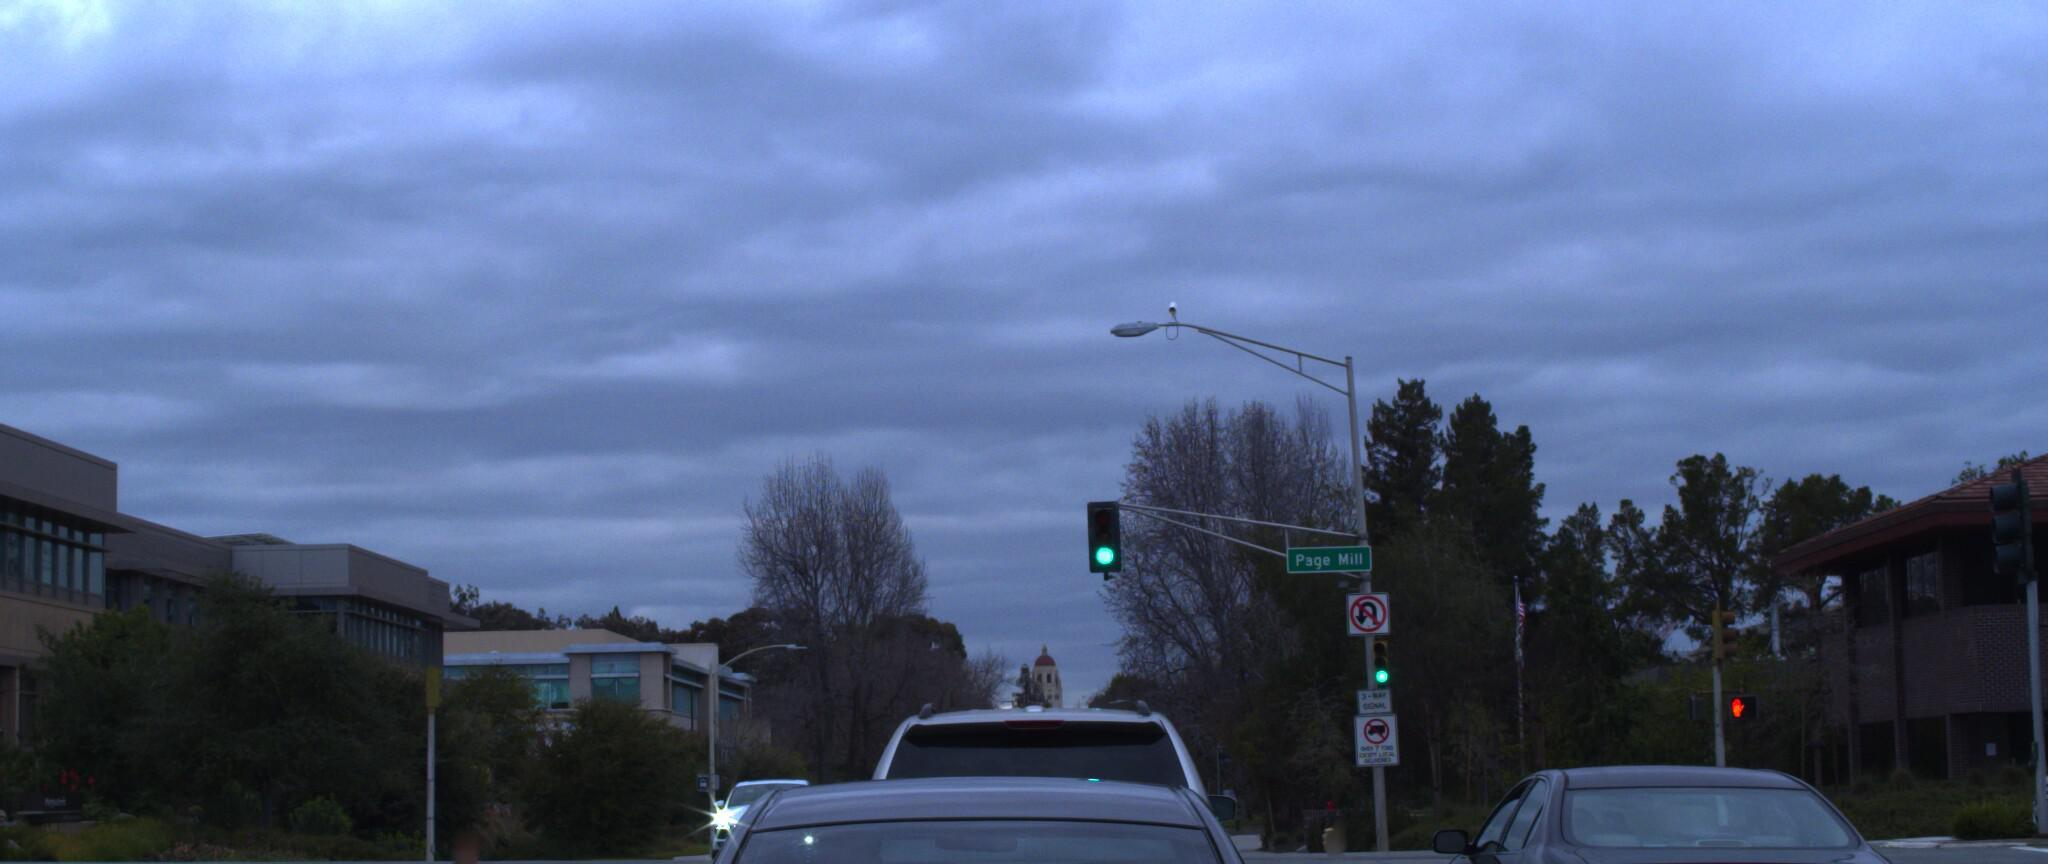car: (593, 730, 1362, 864), (816, 683, 1281, 864), (1394, 747, 1967, 864), (694, 774, 827, 864), (1998, 717, 2048, 844)
